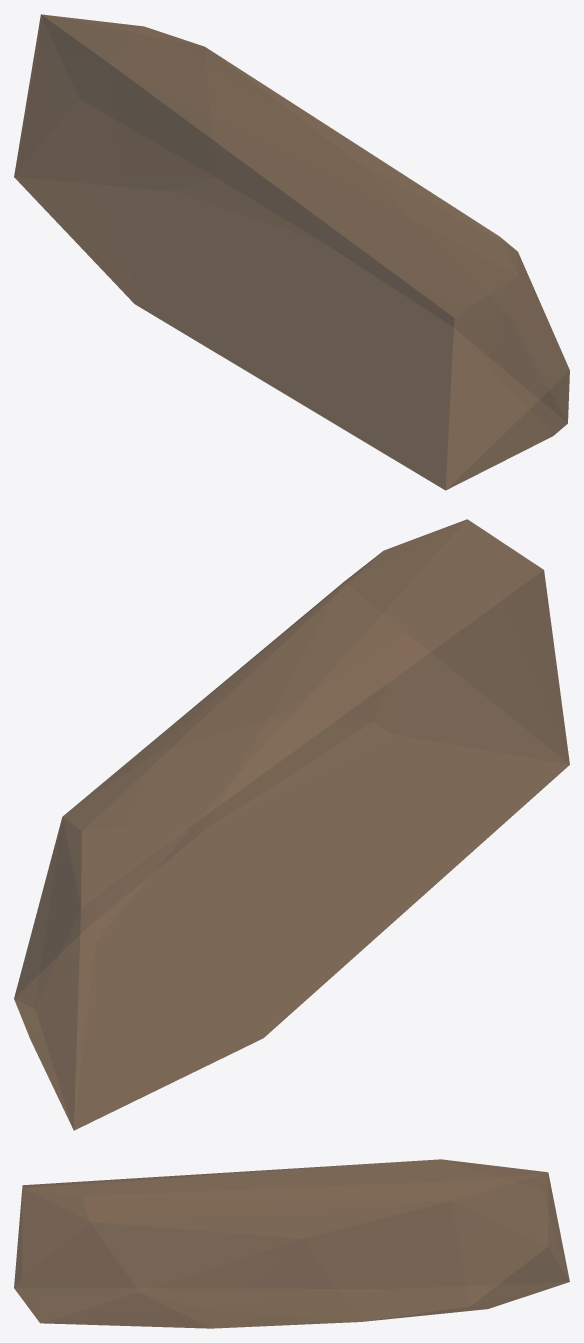
3 views of the same model, one above another, from view 1: azimuth 30°, elevation 25°; view 2: azimuth 150°, elevation 25°; view 3: azimuth 270°, elevation 25° (orthographic). The views are drawn at different scales.
Parts seen in each view (by area): view 1: Shape_IndexedFaceSet.021_Shape_IndexedFaceSet.3359; view 2: Shape_IndexedFaceSet.021_Shape_IndexedFaceSet.3359; view 3: Shape_IndexedFaceSet.021_Shape_IndexedFaceSet.3359.
Part boxes in pixels (x1,y1,x2,y2): Shape_IndexedFaceSet.021_Shape_IndexedFaceSet.3359: [14, 14, 569, 490]; Shape_IndexedFaceSet.021_Shape_IndexedFaceSet.3359: [14, 519, 569, 1130]; Shape_IndexedFaceSet.021_Shape_IndexedFaceSet.3359: [14, 1159, 569, 1328].
Bounding box in the file's own units: 0.1192 × 0.1268 × 0.4731.
